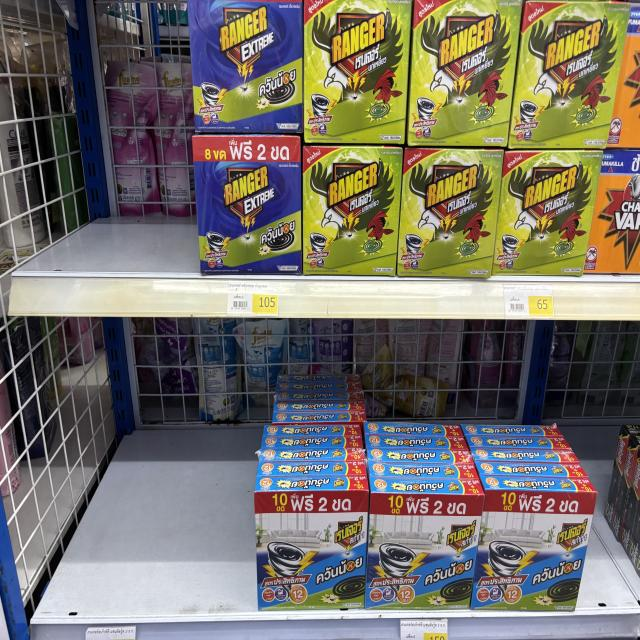empty_shelf: (25, 323, 259, 615), (256, 322, 595, 489), (16, 5, 199, 275), (578, 329, 637, 610)
